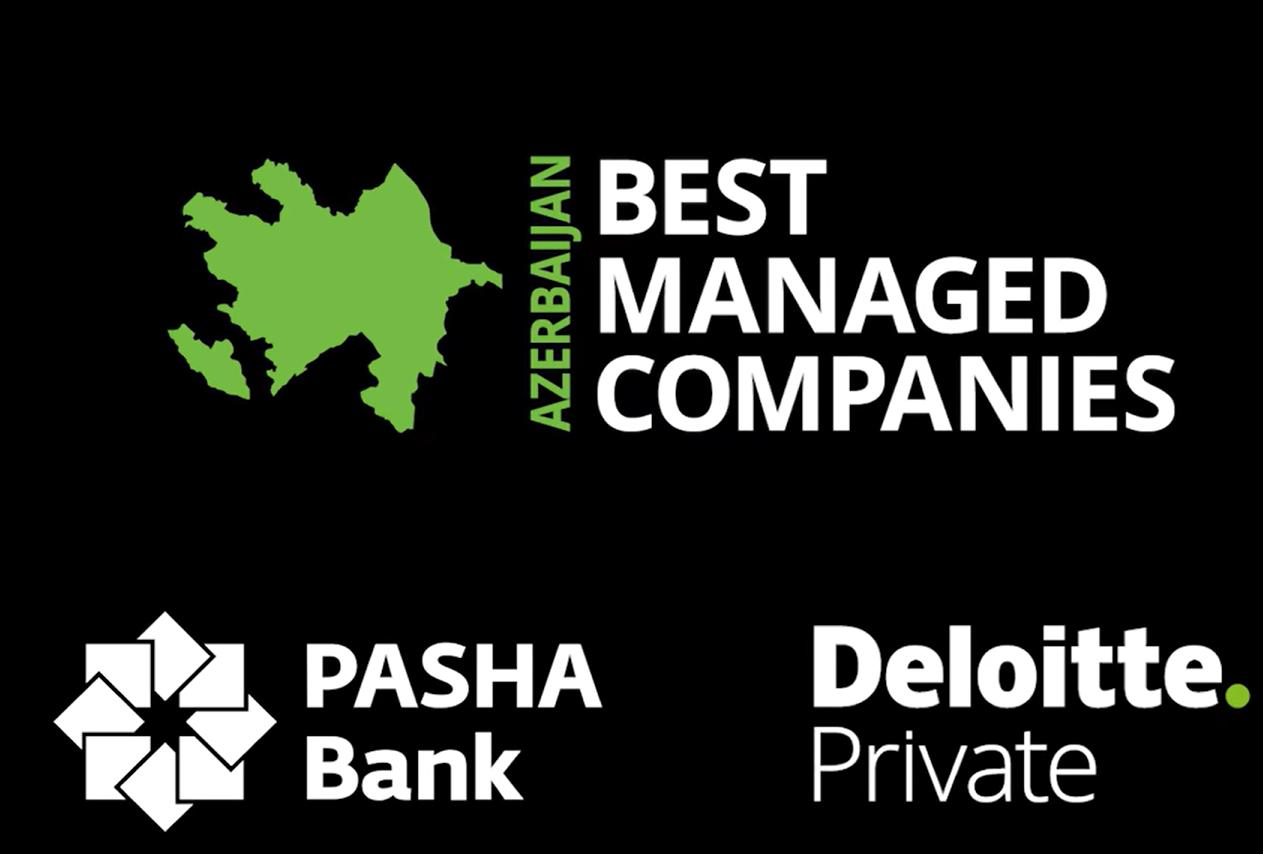Pasha Bank: (48, 609, 280, 838)
